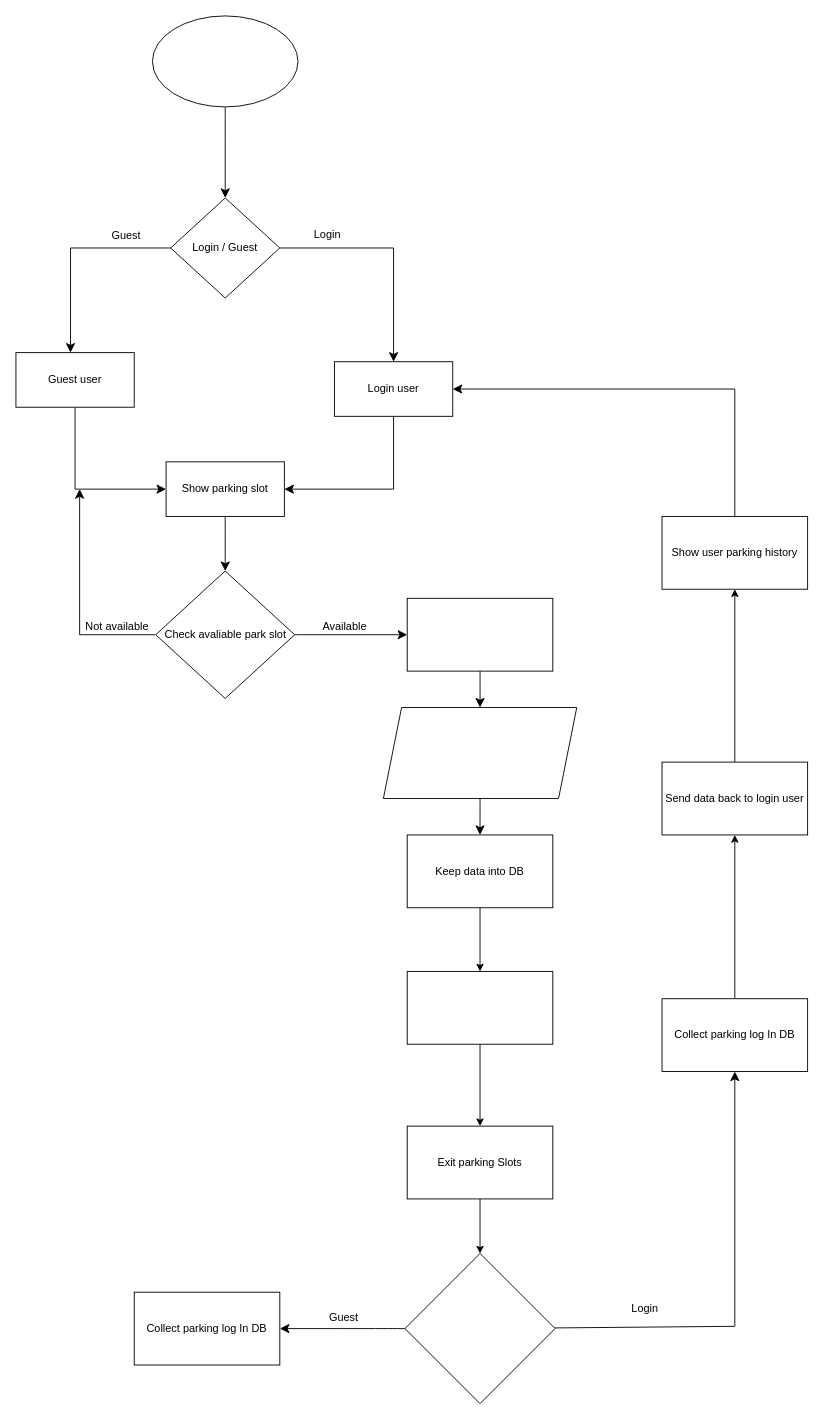
Image size: 824x1420. Some labels were removed from this diagram. Each missing label, with the centre of its shape:
Detech user has login or guest: (479,1328)
Get license_num and face_enter with CCTV: (479,753)
Parking: (479,634)
Parking Management System: (225,61)
Parking slot status update: (479,1007)
